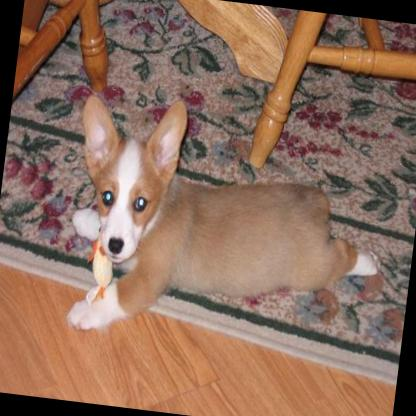Pembroke: (53, 87, 398, 367)
